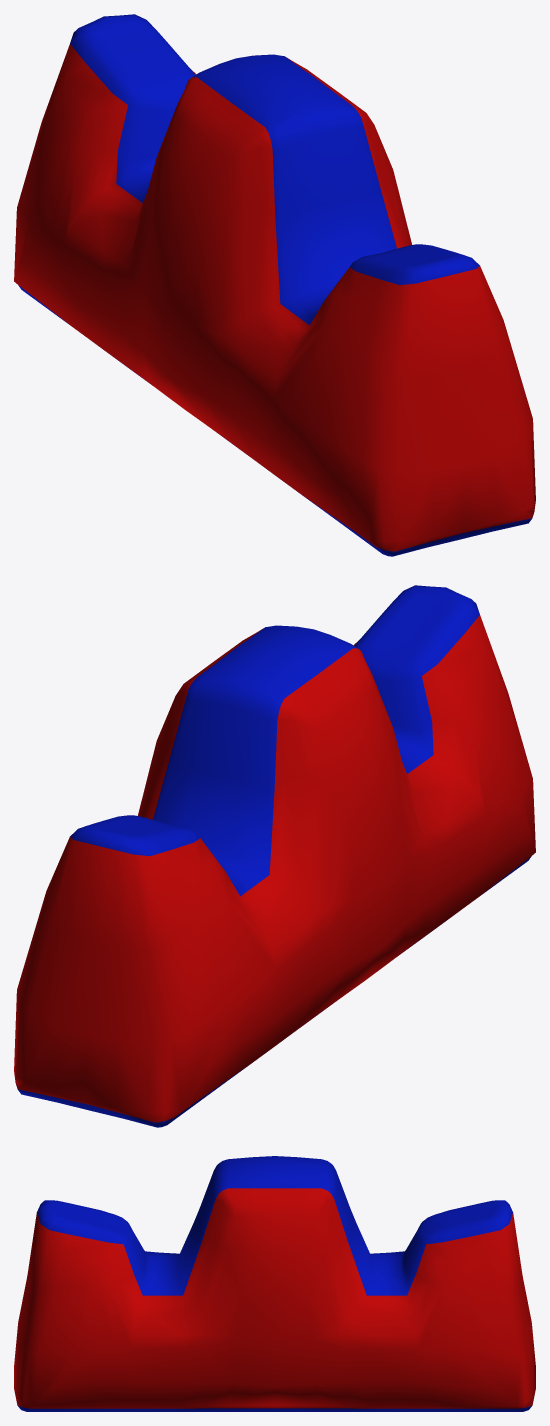
File: W-Webview.glb
3 views of the same model, one above another, from view 1: azimuth 30°, elevation 25°; view 2: azimuth 150°, elevation 25°; view 3: azimuth 270°, elevation 25° (orthographic). The views are drawn at different scales.
Parts seen in each view (by area): view 1: W; view 2: W; view 3: W.
Boxes of the visible parts, x1,y1,x2,y2 form: W: (14, 14, 535, 556); W: (14, 585, 535, 1127); W: (14, 1156, 535, 1411).
Size of the model in its own units: 2.08 by 2.9 by 6.08.
